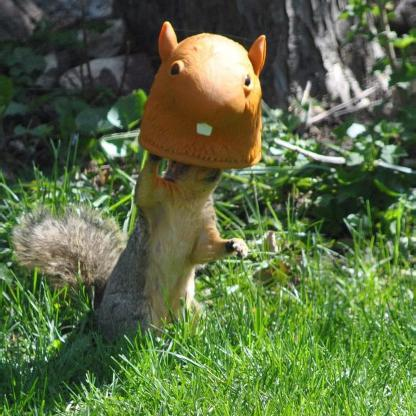Squirrel: (9, 151, 243, 343)
